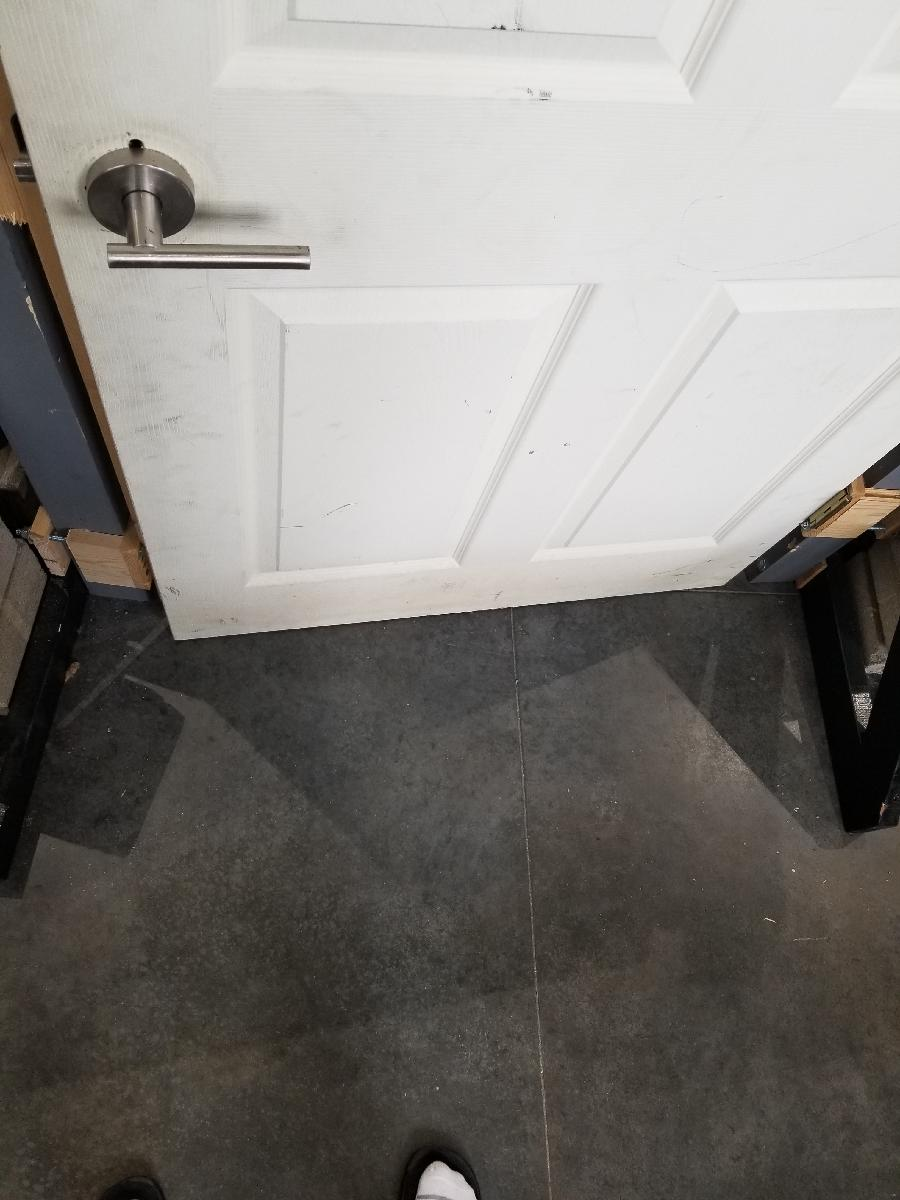doorHandle: (80, 138, 319, 288)
